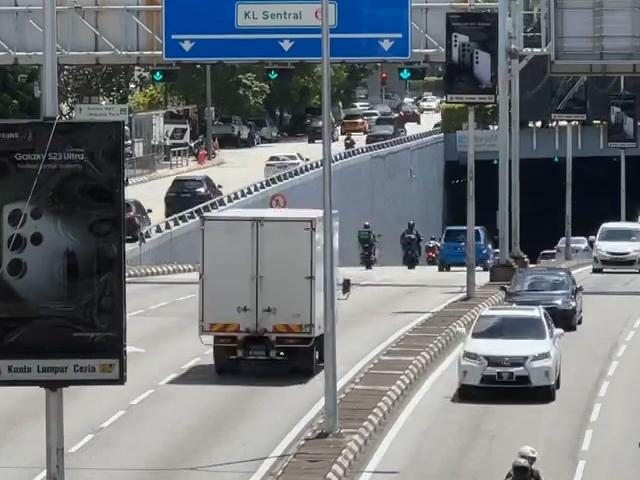car: (453, 302, 568, 407), (502, 262, 588, 332), (588, 224, 640, 276), (443, 219, 494, 270)
motorcycle: (355, 213, 387, 273), (394, 216, 422, 270), (425, 231, 439, 267)
truck: (193, 200, 351, 382)
